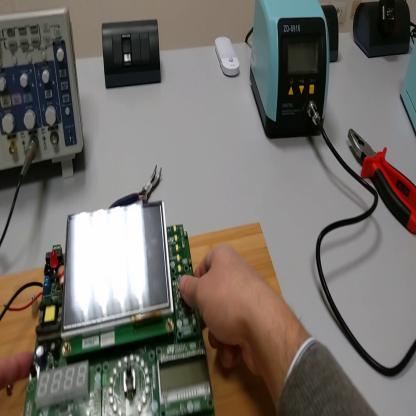hand: (179, 242, 273, 378), (2, 351, 34, 389)
low voltage board: (1, 203, 216, 416)
oscilloscope: (2, 10, 86, 186)
pliers: (349, 127, 415, 234), (110, 165, 164, 210)
socket: (353, 2, 412, 61), (323, 4, 340, 63)
welder station: (248, 4, 331, 142), (400, 39, 416, 136)
working area: (2, 224, 288, 415)
